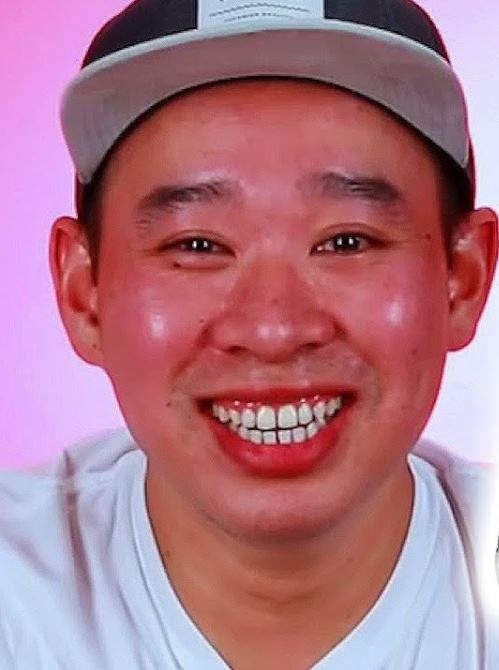Drunk: (121, 129, 440, 507)
